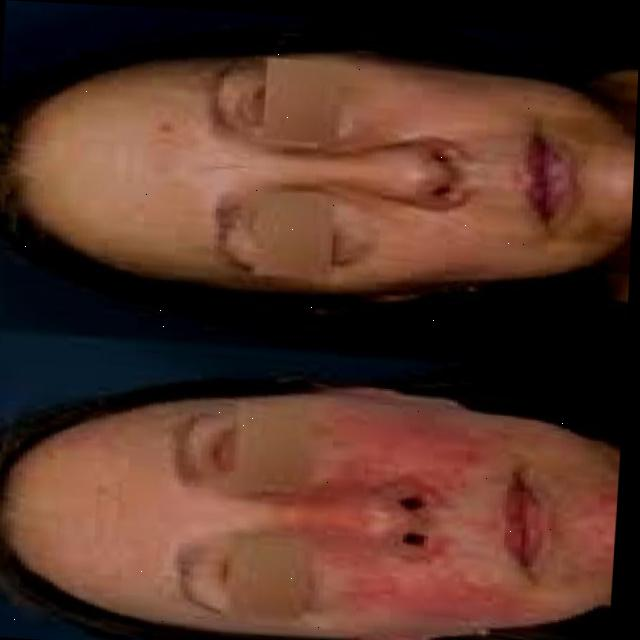Rosacea: (318, 539, 518, 635), (306, 393, 493, 493), (299, 485, 378, 543), (573, 482, 618, 580)
